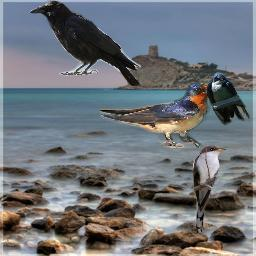Crow: (29, 0, 141, 87)
Cuckoo: (192, 144, 226, 233)
Swallow: (100, 83, 215, 148), (205, 72, 251, 128)
